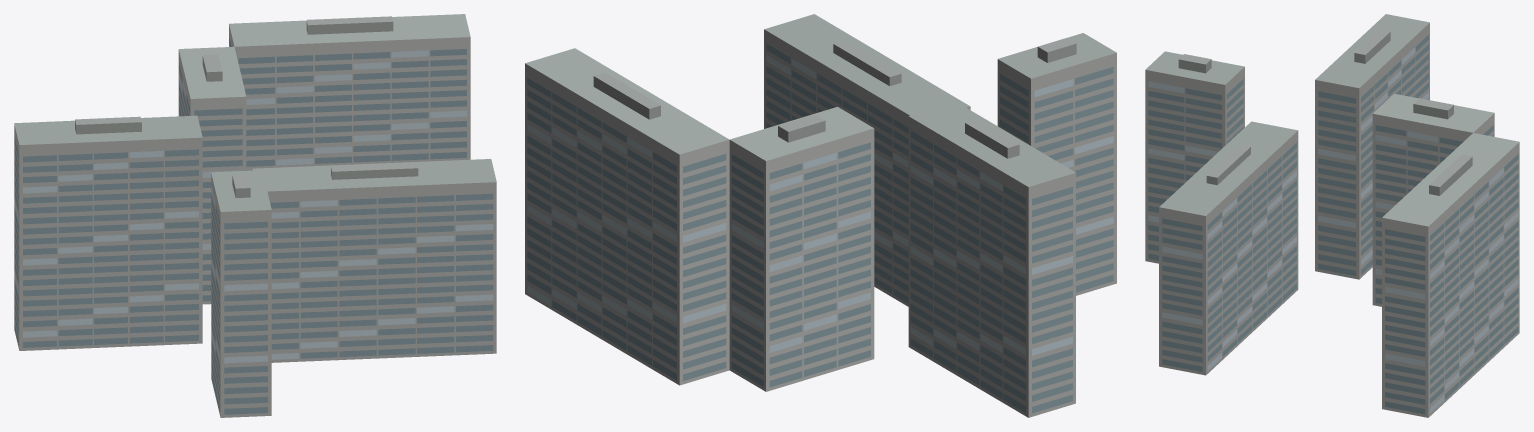
File: apt-a10045402.glb
3 views of the same model, side by side, from view 1: azimuth 30°, elevation 25°; view 2: azimuth 150°, elevation 25°; view 3: azimuth 270°, elevation 25° (orthographic). The views are drawn at different scales.
Visible parts, largest first — view 1: apt-a10045402; view 2: apt-a10045402; view 3: apt-a10045402.
Boxes of the visible parts, left/top/right/bottom form: apt-a10045402: left=14, top=14, right=496, bottom=417; apt-a10045402: left=525, top=14, right=1116, bottom=417; apt-a10045402: left=1145, top=14, right=1519, bottom=417.
Size of the model in its own units: 123 by 54 by 91.49.
